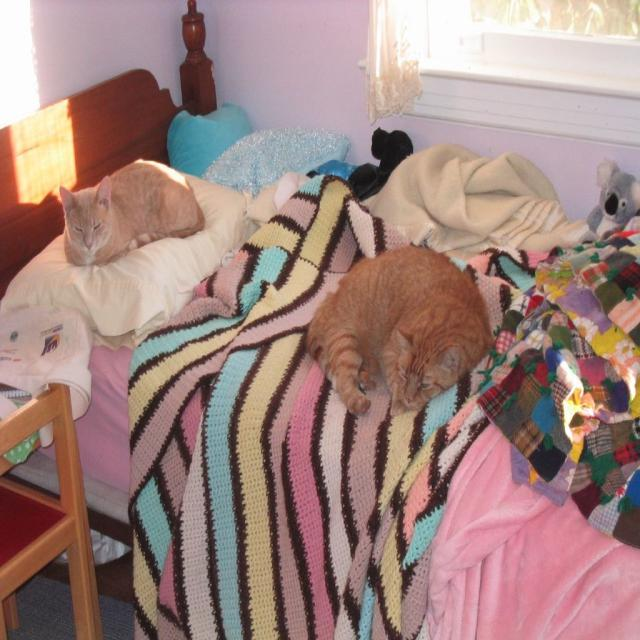Cat: (305, 240, 495, 415), (54, 160, 204, 265)
